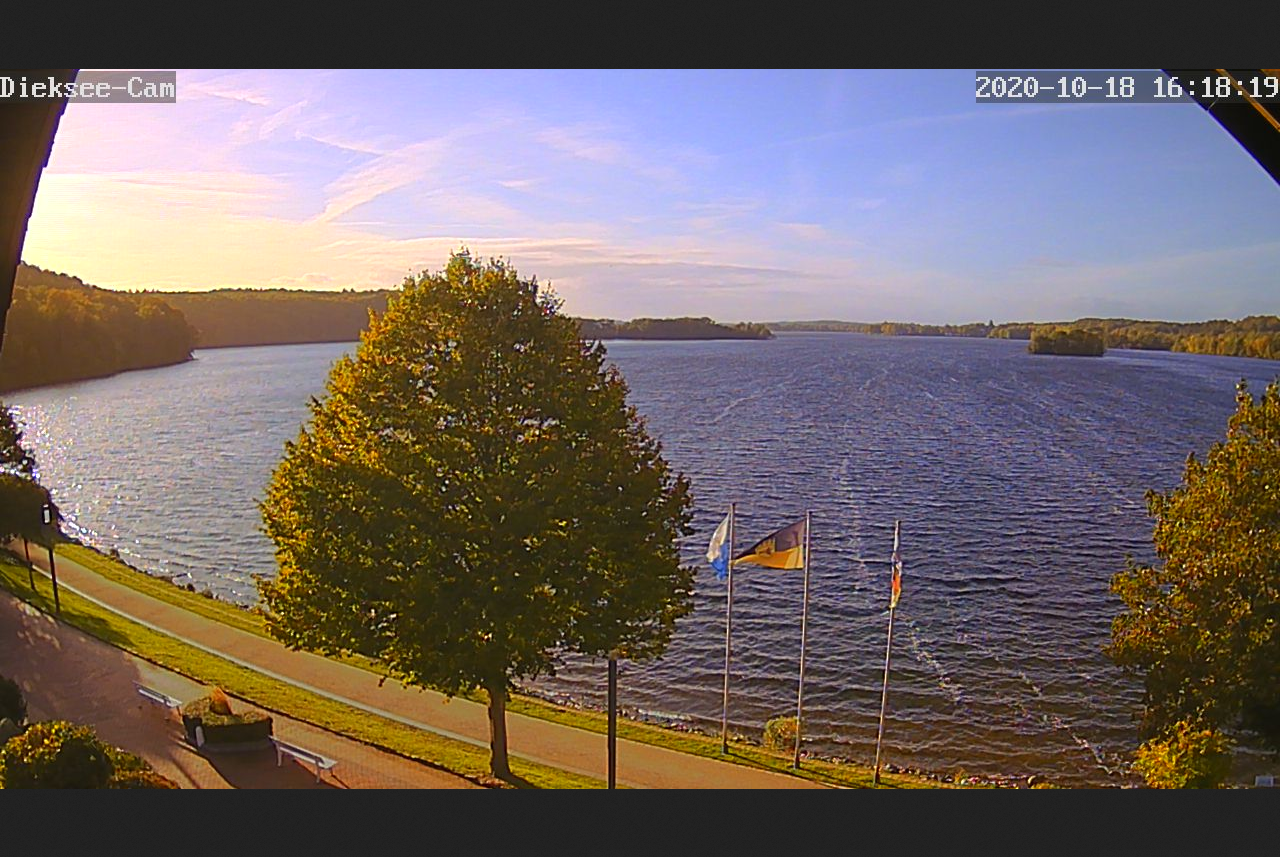maybe: (727, 503, 821, 581)
no: (700, 488, 746, 589), (880, 517, 907, 611)
